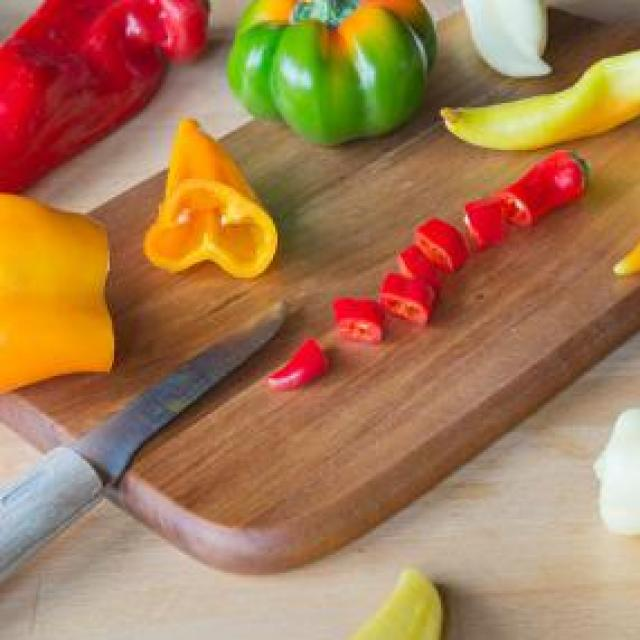knife: (0, 298, 300, 590)
